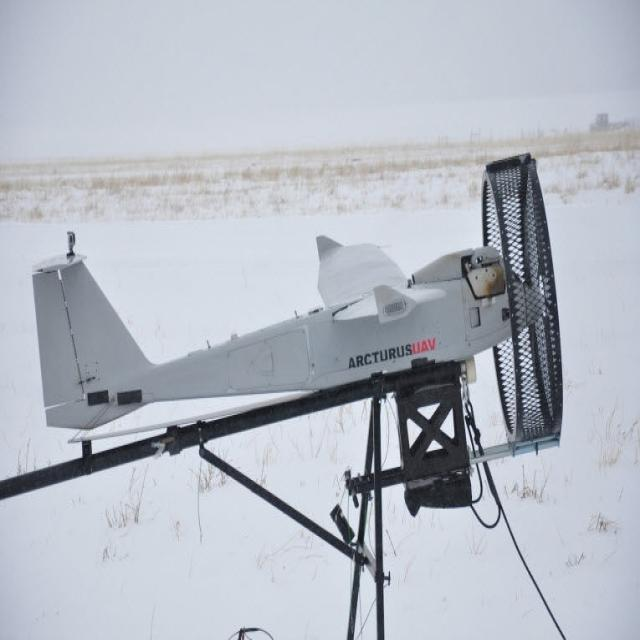iha: (19, 215, 557, 422)
